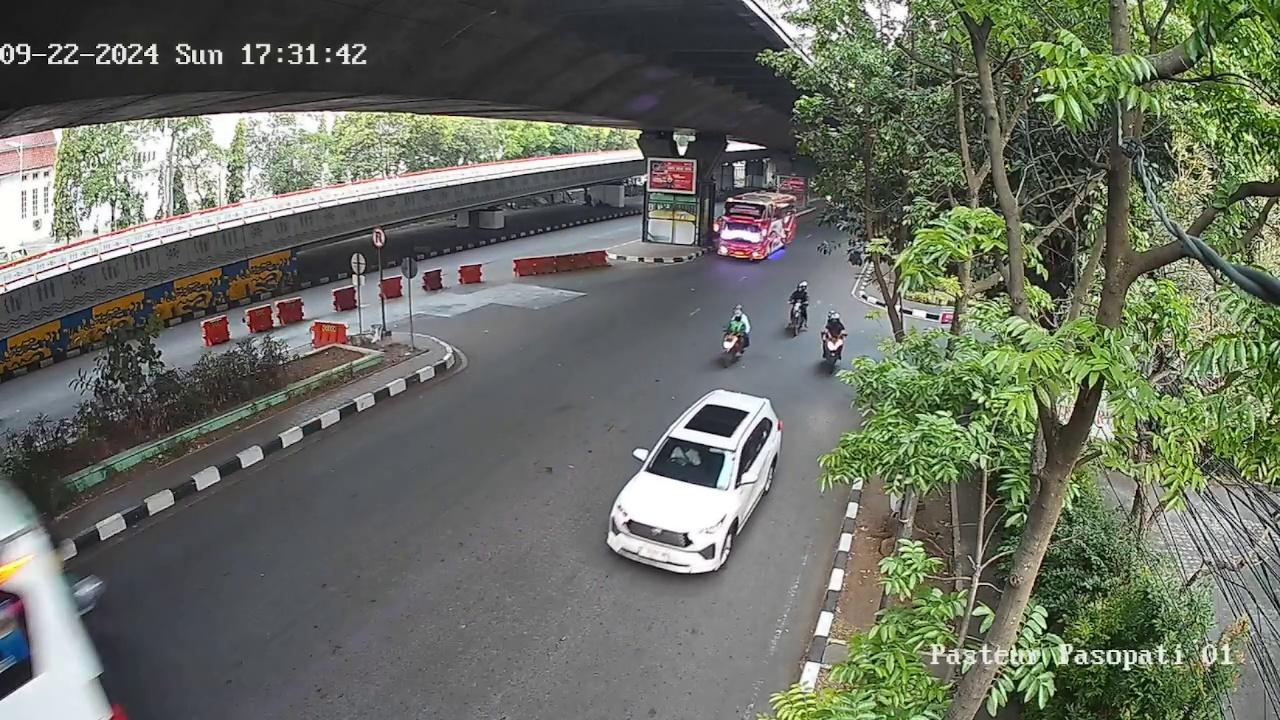pakai: (667, 441, 702, 473)
windshield: (649, 435, 739, 489)
